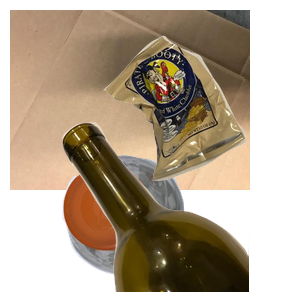cardboard: (10, 10, 250, 190)
glass: (60, 120, 300, 300)
plastic: (60, 152, 237, 300)
trash: (101, 33, 300, 206)
